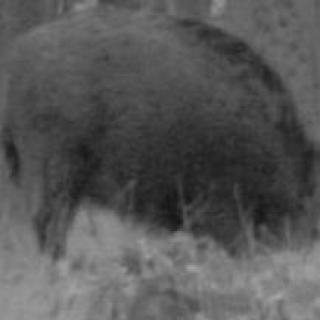Pig: (14, 36, 320, 245)
